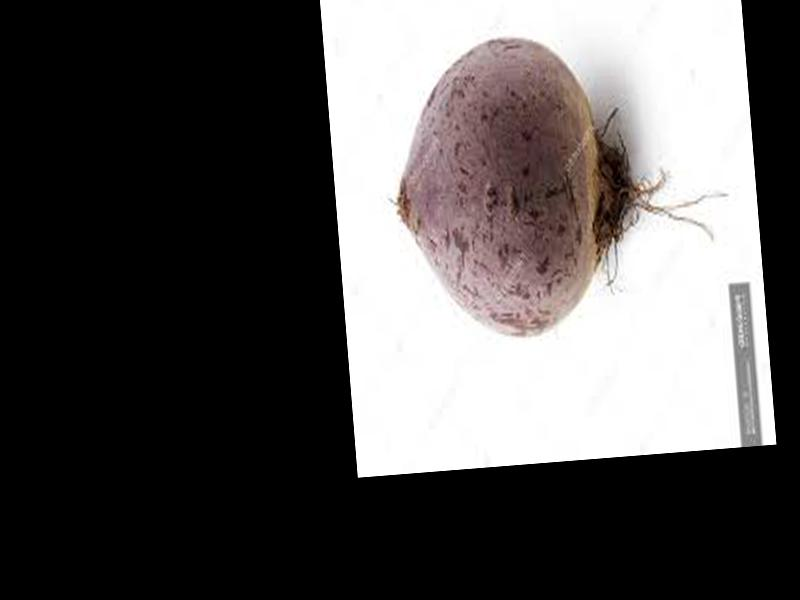Beet: (382, 20, 739, 349)
